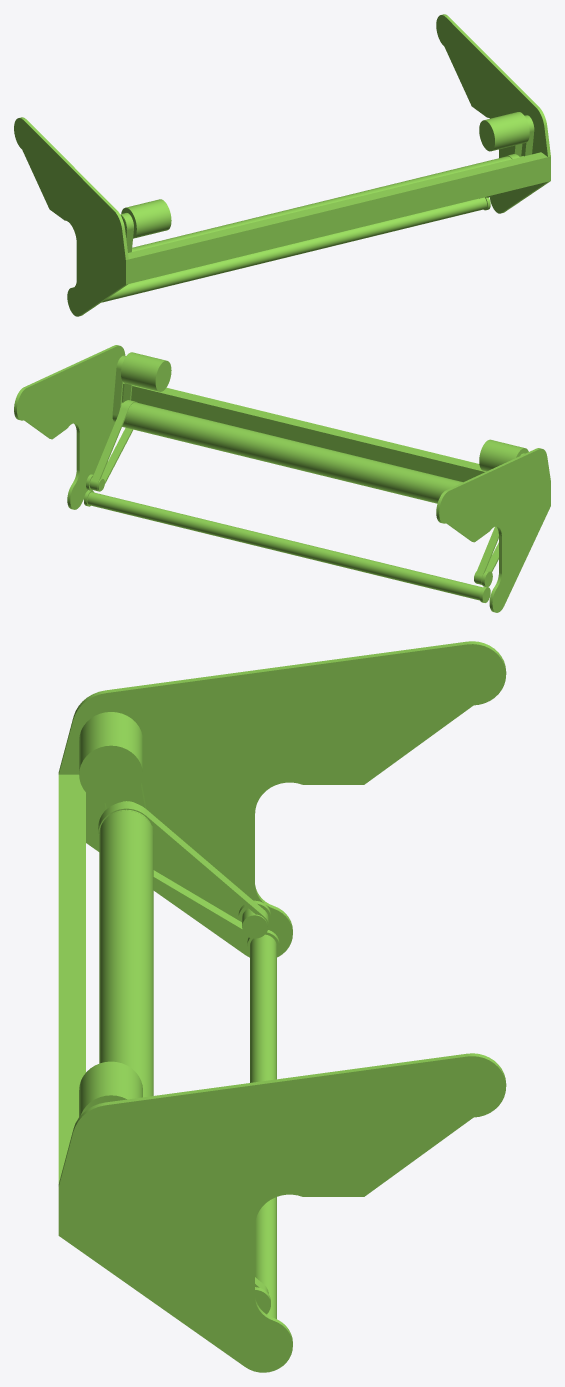
3 renders of one model, top to bottom at view 1: azimuth 30°, elevation 25°; view 2: azimuth 150°, elevation 25°; view 3: azimuth 270°, elevation 25°, orthographic. The views are drawn at different scales.
Visible parts, largest first — view 1: id5, id8, id2; view 2: id5, id8, id2; view 3: id5, id8, id2.
Boxes of the visible parts, <box> form: id5: <box>14,14,550,316</box>; id8: <box>120,112,534,252</box>; id2: <box>101,197,490,302</box>; id5: <box>14,345,550,612</box>; id8: <box>86,352,528,587</box>; id2: <box>84,490,490,602</box>; id5: <box>58,641,506,1372</box>; id8: <box>79,712,270,1314</box>; id2: <box>247,930,279,1318</box>.
Size of the model in its own units: 0.9208 by 0.3276 by 0.4196.
